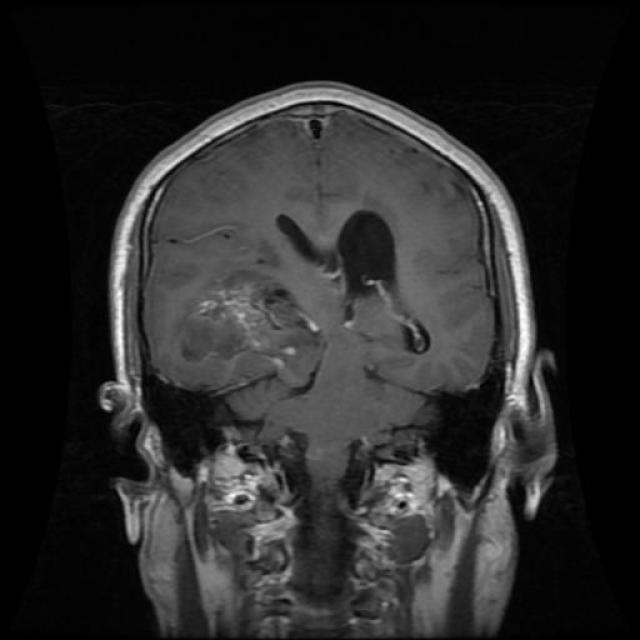glioma: (279, 205, 435, 358)
